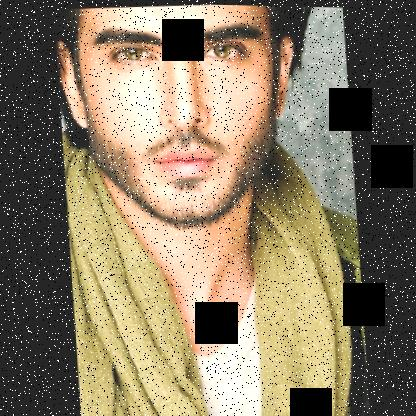Male: (53, 1, 301, 226)
